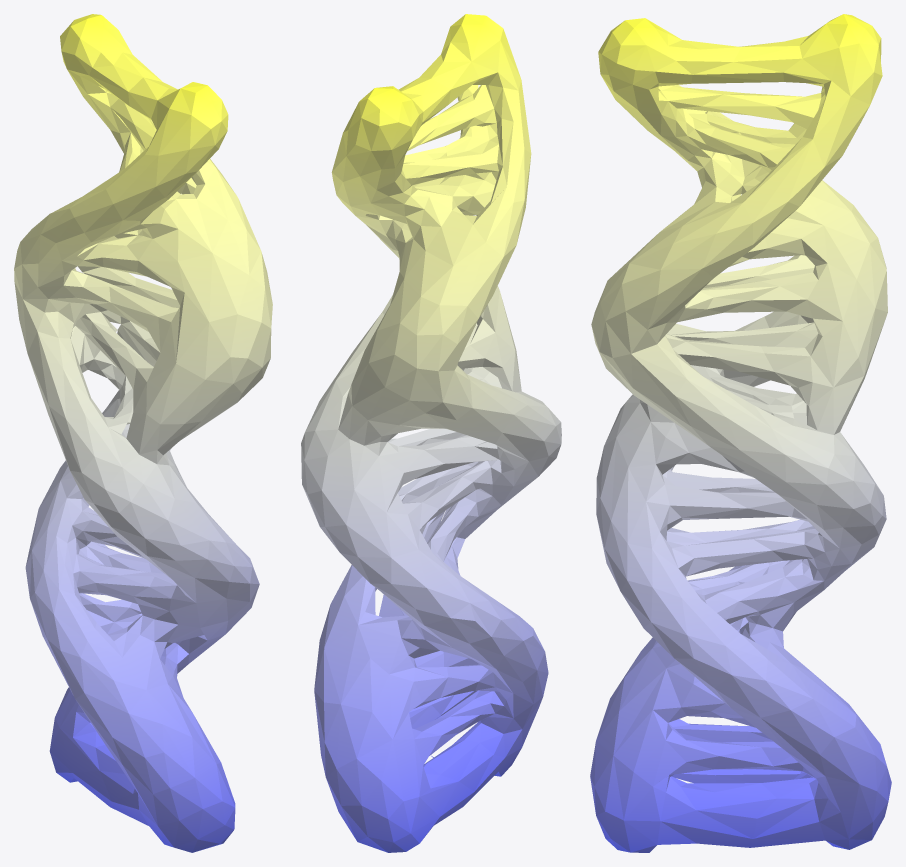
Rendered from 100_cyb_laser_gradient_fish_scales_2993_2026_10_03_c2699e.glb.
3 views of the same model, side by side, from view 1: azimuth 30°, elevation 25°; view 2: azimuth 150°, elevation 25°; view 3: azimuth 270°, elevation 25° (orthographic). The views are drawn at different scales.
Visible parts, largest first — view 1: geometry_0; view 2: geometry_0; view 3: geometry_0.
Boxes of the visible parts, x1,y1,x2,y2 form: geometry_0: [14, 14, 272, 852]; geometry_0: [301, 14, 561, 852]; geometry_0: [590, 14, 891, 852].
Bounding box in the file's own units: 0.2617 × 1 × 0.3336.
